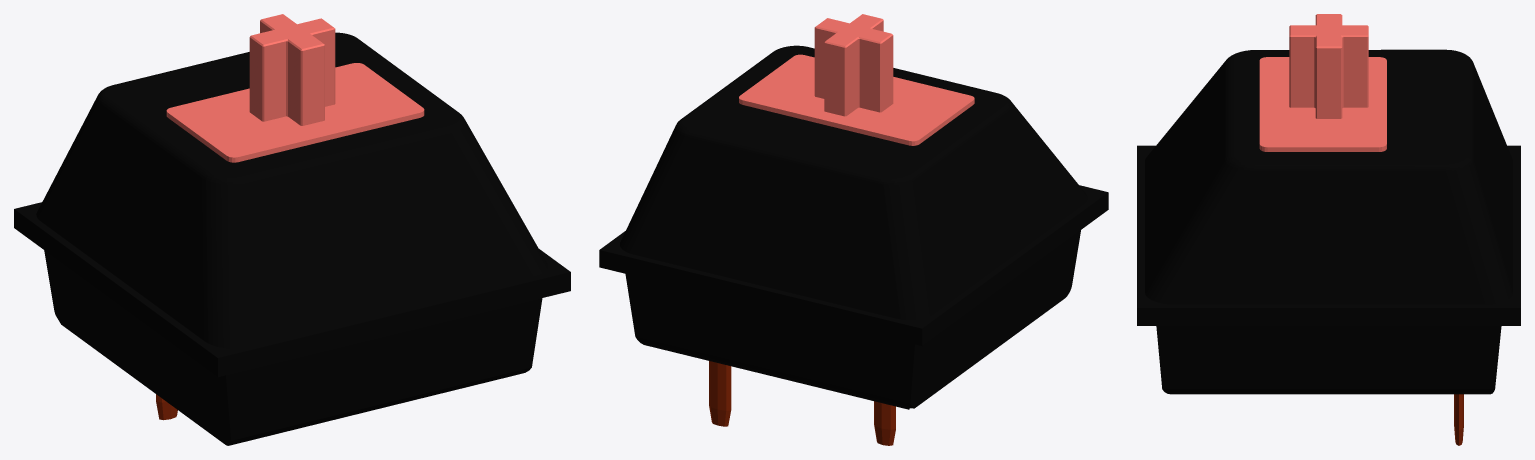
File: mxsilentred.glb
3 views of the same model, side by side, from view 1: azimuth 30°, elevation 25°; view 2: azimuth 150°, elevation 25°; view 3: azimuth 270°, elevation 25° (orthographic). The views are drawn at different scales.
Visible parts, largest first — view 1: Switch; view 2: Switch; view 3: Switch.
Boxes of the visible parts, bbox=[...] form: Switch: bbox=[14, 14, 570, 445]; Switch: bbox=[599, 14, 1108, 445]; Switch: bbox=[1137, 14, 1520, 445].
Size of the model in its own units: 0.0145 by 0.0157 by 0.0145.
